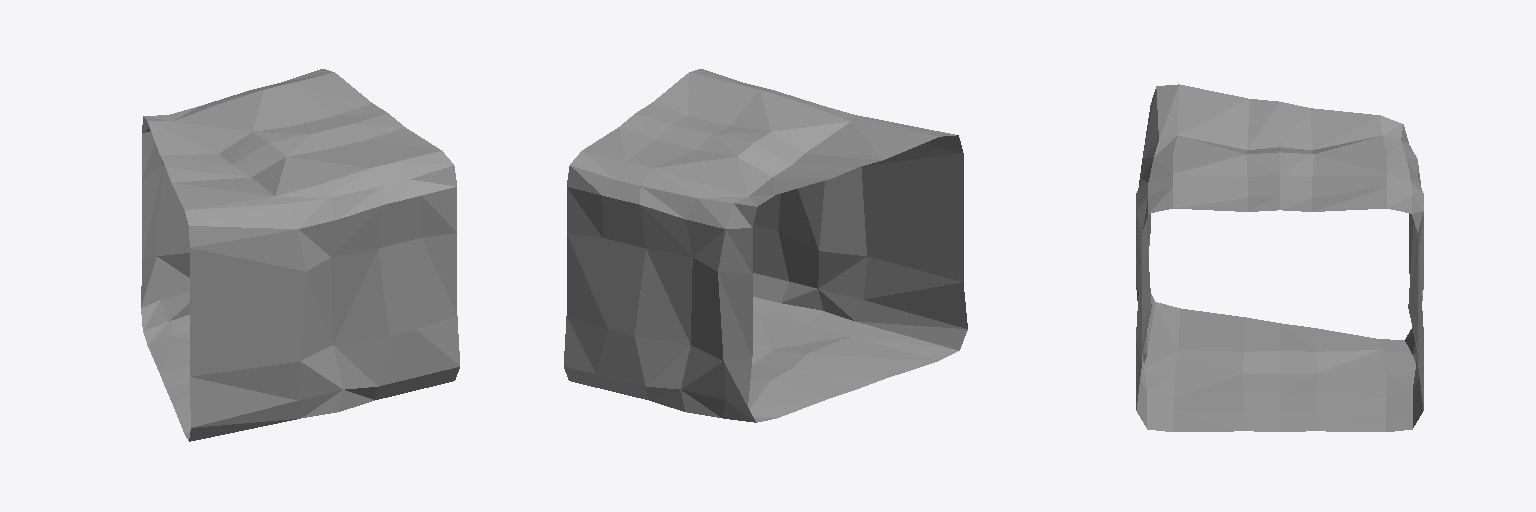
File: Sharft_20c_Right.obj
3 views of the same model, side by side, from view 1: azimuth 30°, elevation 25°; view 2: azimuth 150°, elevation 25°; view 3: azimuth 270°, elevation 25° (orthographic).
Visible parts, largest first — view 1: Sharft_20c_Right; view 2: Sharft_20c_Right; view 3: Sharft_20c_Right.
Boxes of the visible parts, x1=… form: Sharft_20c_Right: x1=141, y1=69, x2=459, y2=441; Sharft_20c_Right: x1=564, y1=69, x2=967, y2=422; Sharft_20c_Right: x1=1136, y1=84, x2=1423, y2=431.
Size of the model in its own units: 3.14 by 2.54 by 2.95.